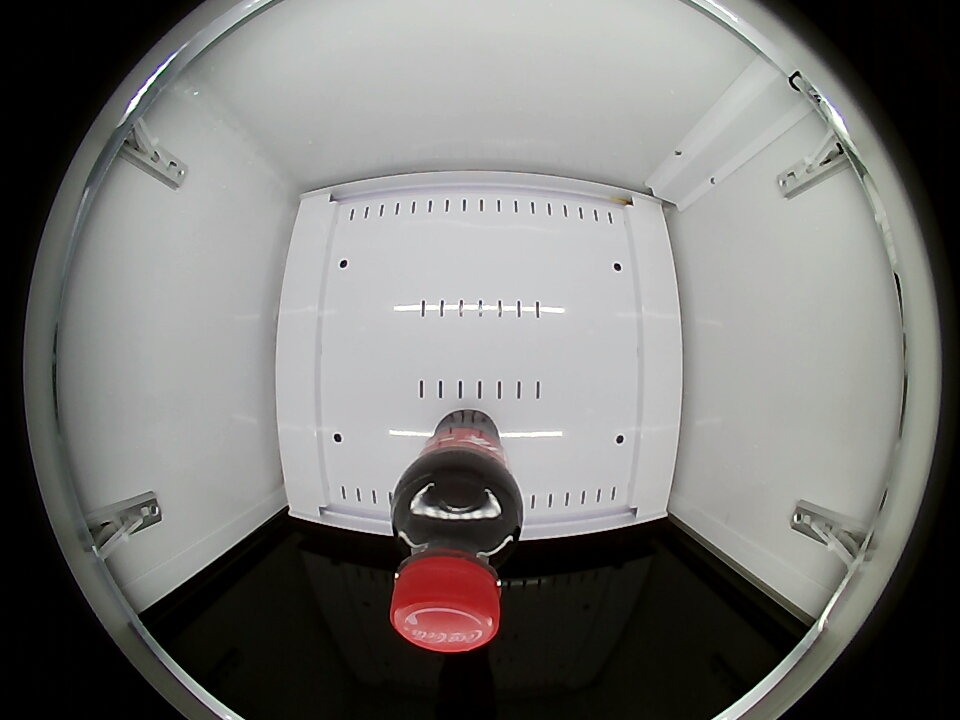kele-b: (389, 480, 522, 652)
